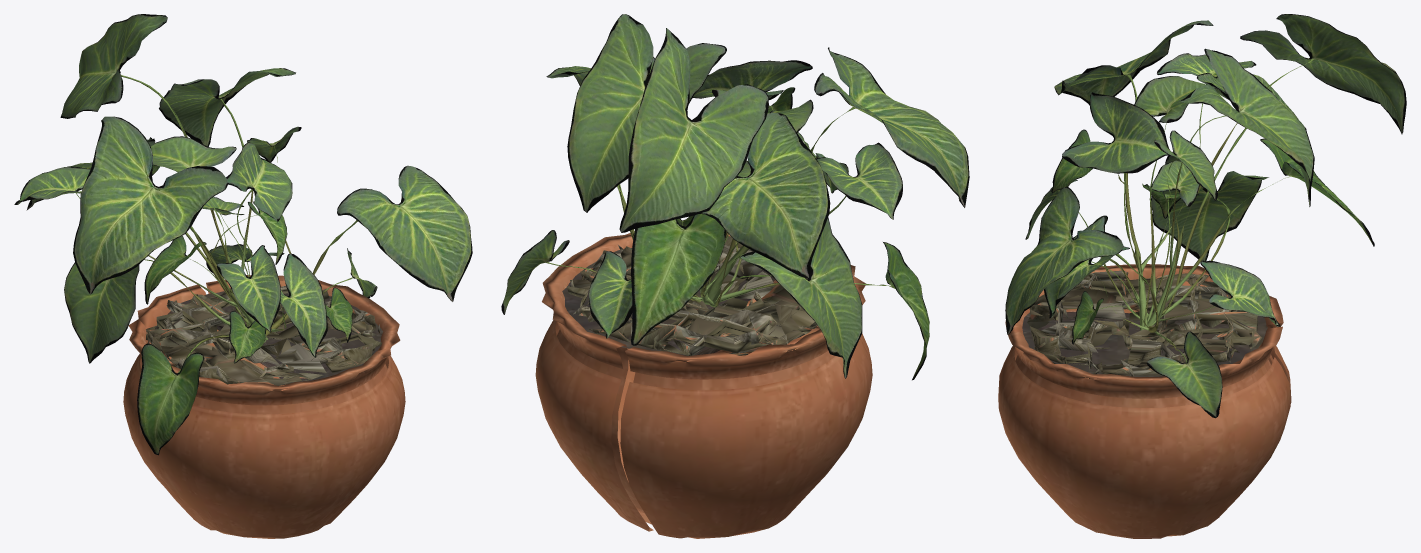
The model's file is plant.glb.
3 renders of one model, left to right at view 1: azimuth 30°, elevation 25°; view 2: azimuth 150°, elevation 25°; view 3: azimuth 270°, elevation 25°, orthographic. The views are drawn at different scales.
Visible parts, largest first — view 1: potted_plant_02_leaves, potted_plant_02_pot, potted_plant_02_dirt; view 2: potted_plant_02_leaves, potted_plant_02_pot, potted_plant_02_dirt; view 3: potted_plant_02_leaves, potted_plant_02_pot, potted_plant_02_dirt.
Part boxes in pixels (x1,y1,x2,y2): potted_plant_02_leaves: (14,14,472,455); potted_plant_02_pot: (123,275,405,538); potted_plant_02_dirt: (146,286,382,385); potted_plant_02_leaves: (501,14,969,380); potted_plant_02_pot: (535,233,872,538); potted_plant_02_dirt: (562,236,819,356); potted_plant_02_leaves: (1005,14,1406,418); potted_plant_02_pot: (998,264,1291,538); potted_plant_02_dirt: (1022,270,1267,376).
Bounding box in the file's own units: 0.7008 × 0.8407 × 0.6548.
Materials: 2 (2 with a texture image).
